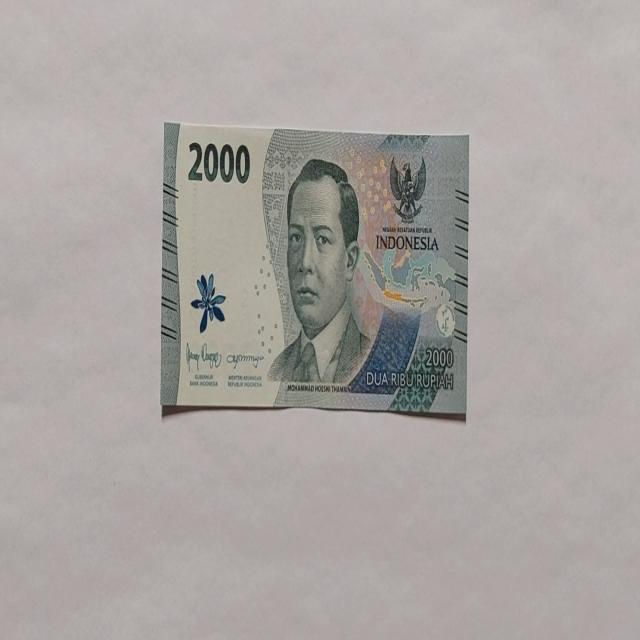dua ribu rupiah: (160, 120, 470, 417), (266, 158, 372, 390)
